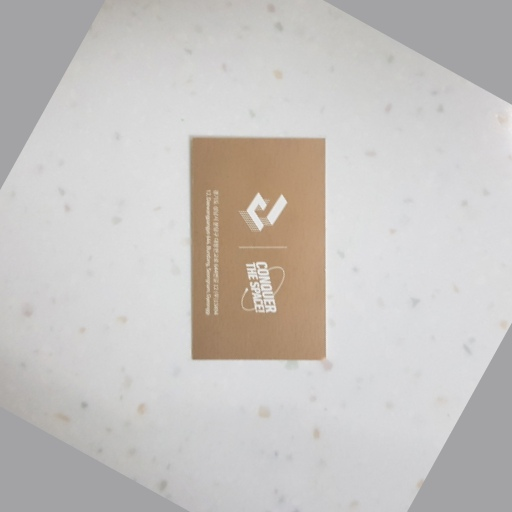Paper_2: (184, 131, 338, 369)
